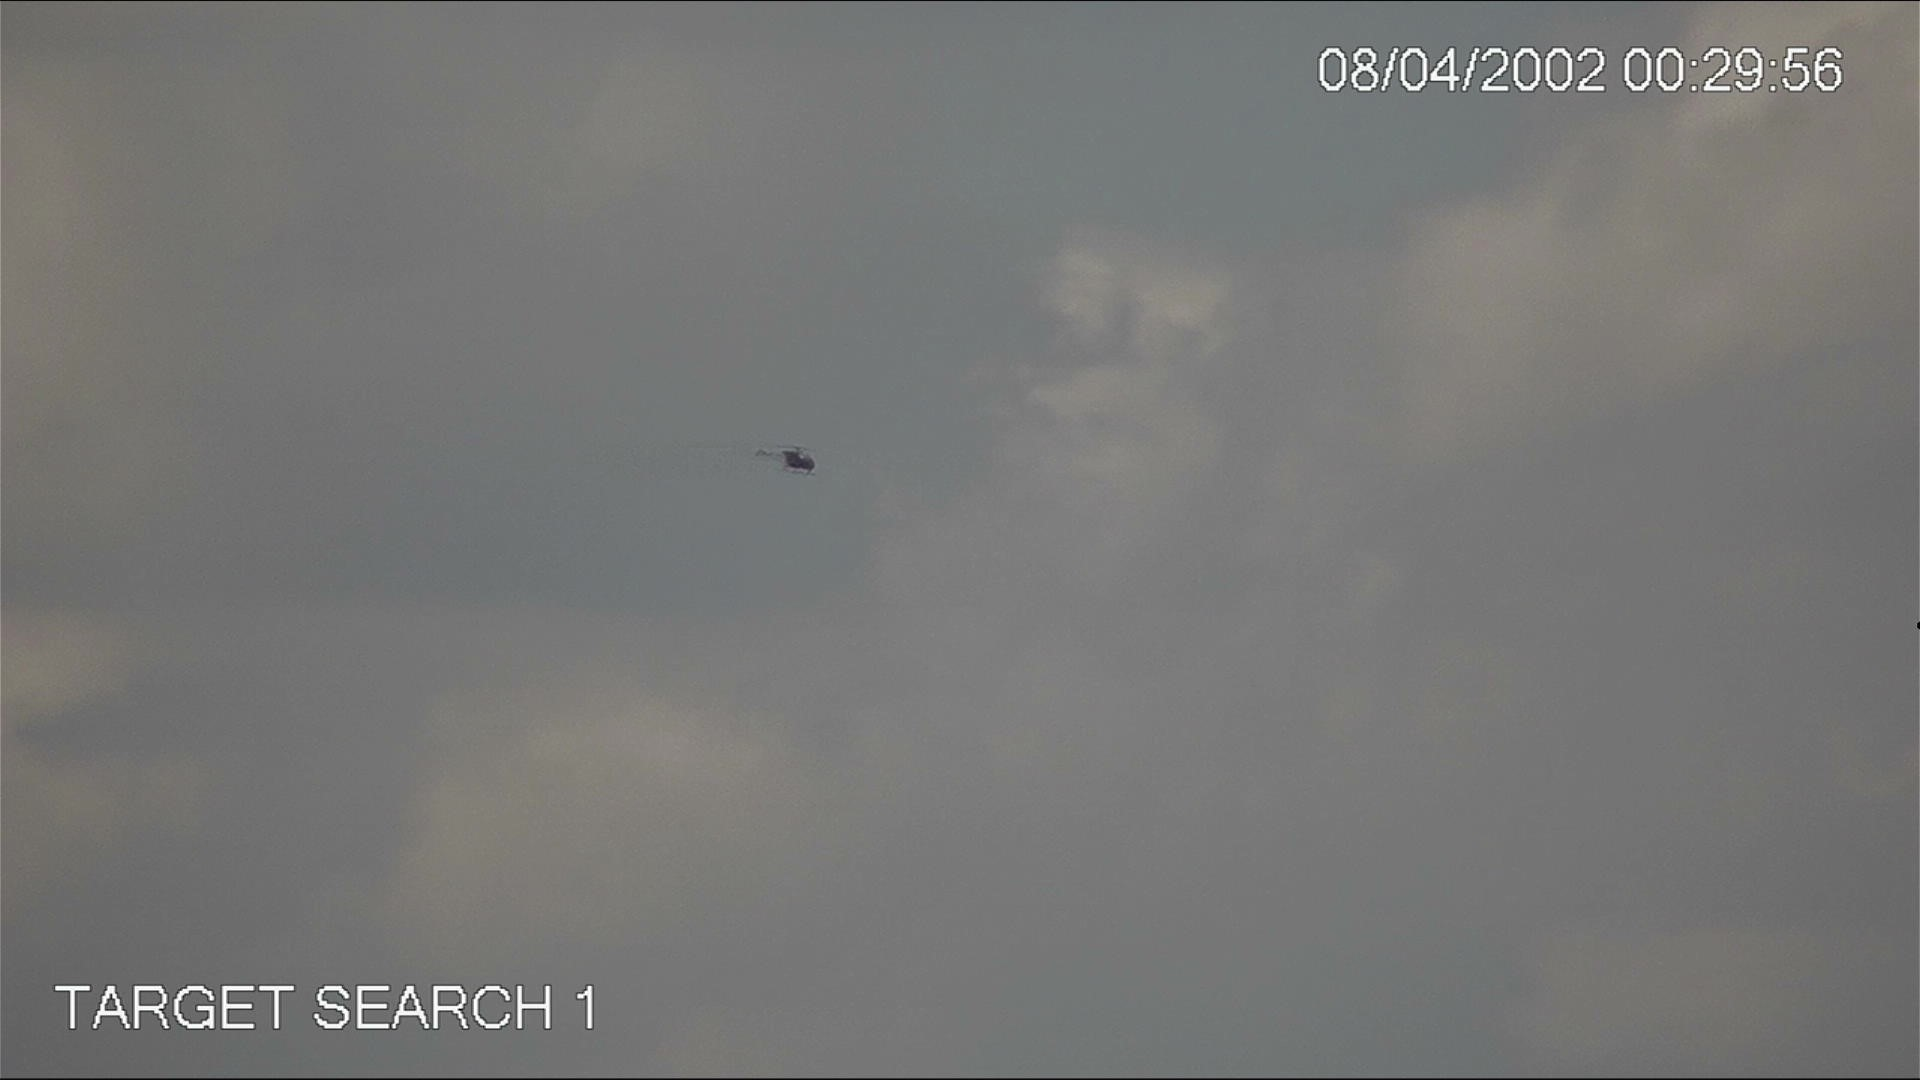SU_30: (750, 440, 822, 480)
